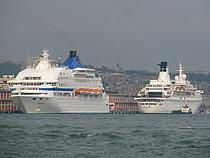Ship: (6, 47, 115, 118), (137, 59, 207, 118)
